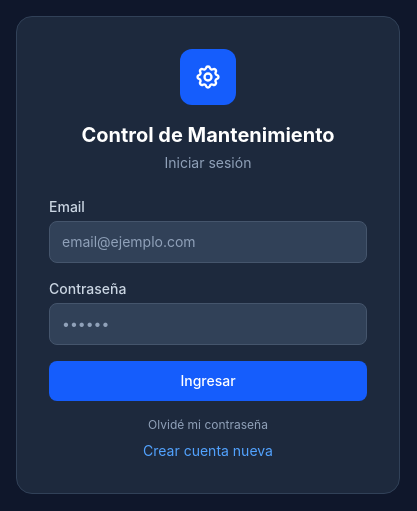
Scenario: Login page › toggles to reset password
Click the button "Olvidé mi contraseña".
click(208, 425)  # box left=148, top=417, right=268, bottom=433
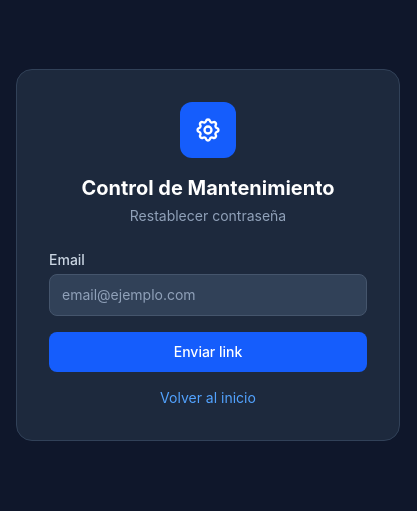
Check: the button "Enviar link" is shown, box left=49, top=332, right=367, bottom=372
